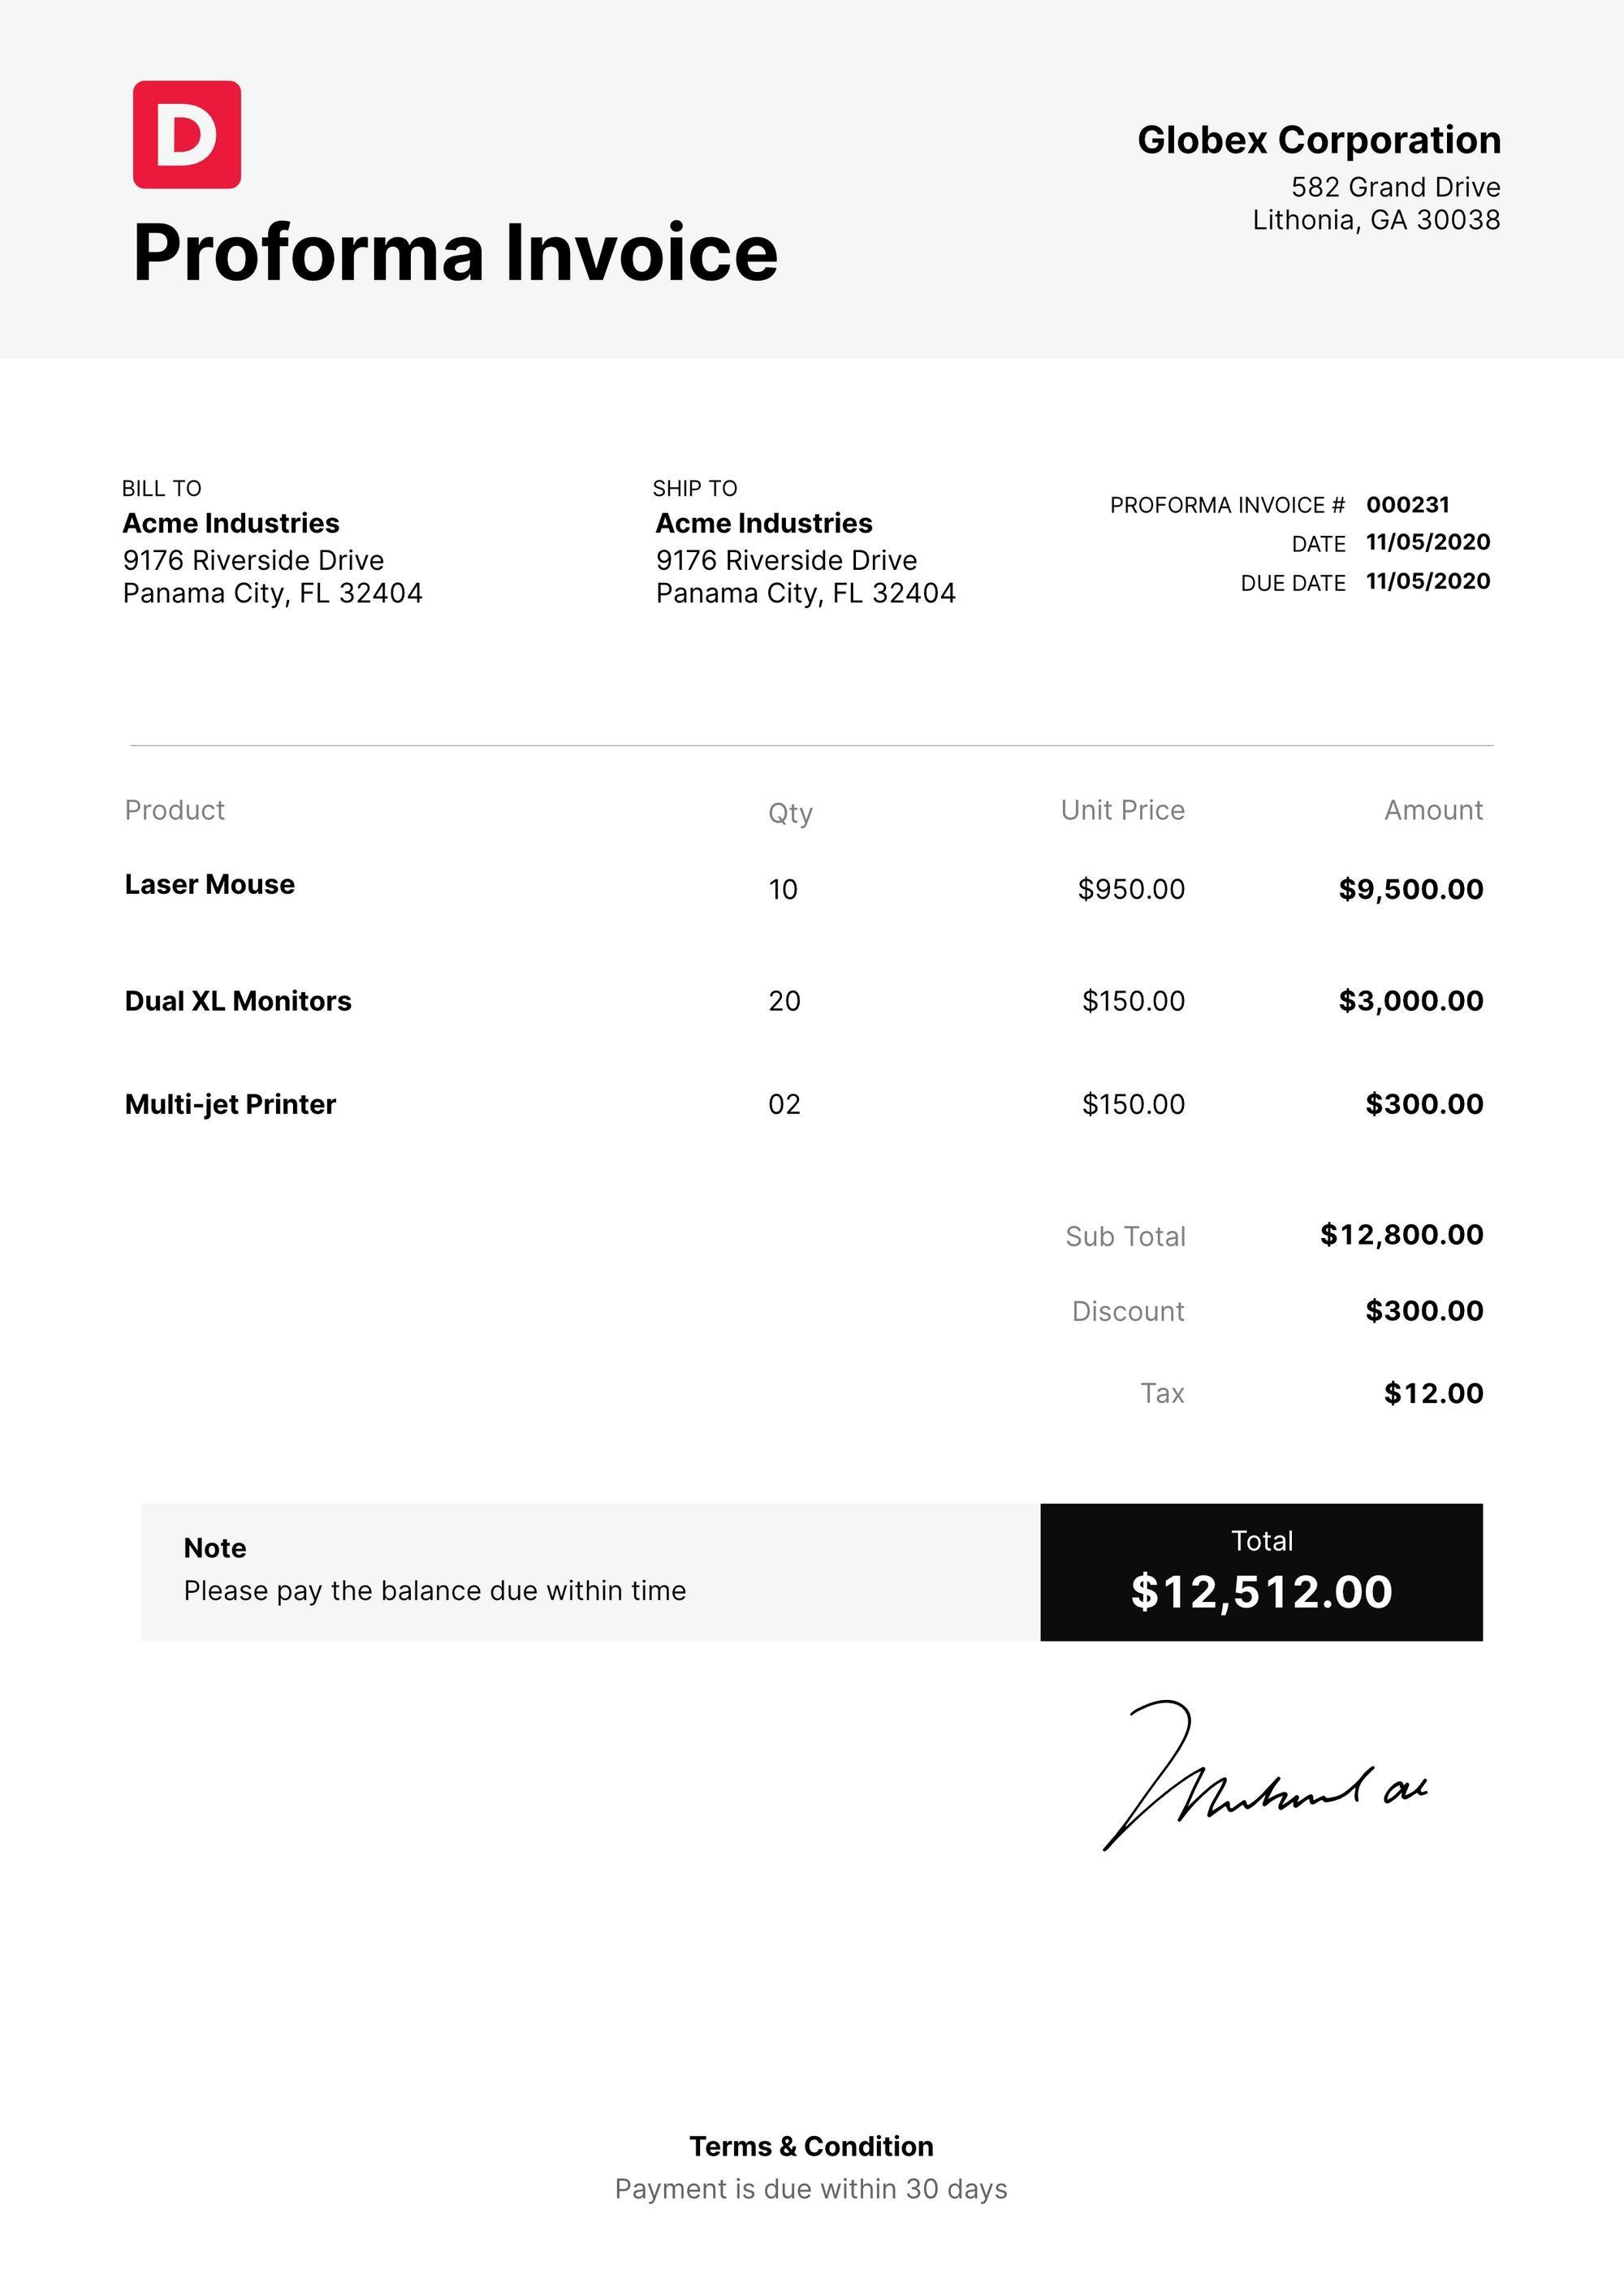ROI: (93, 761, 1519, 1173), (1037, 1209, 1515, 1635), (120, 1490, 749, 1653), (1091, 460, 1536, 618), (1128, 112, 1533, 258), (109, 467, 448, 625)
